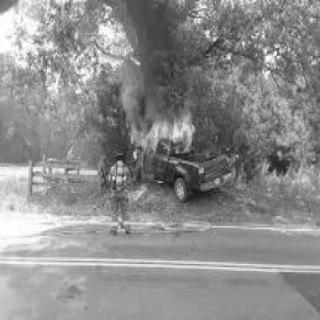Smoke: (124, 1, 174, 94)
